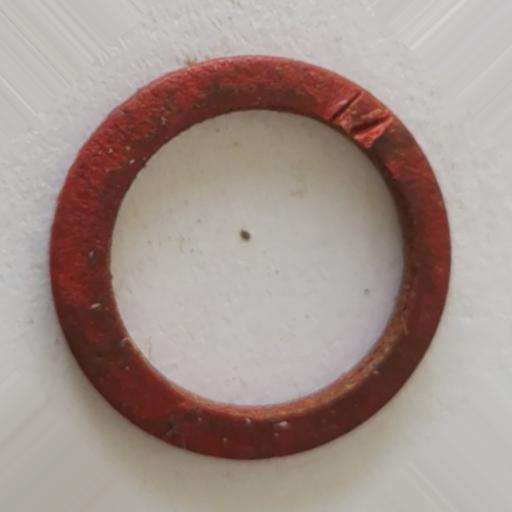defect: (328, 87, 394, 153)
